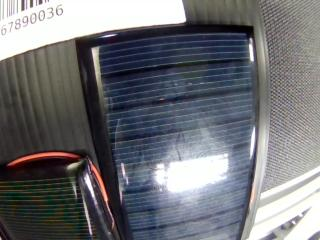solarboard: (77, 25, 258, 240), (0, 158, 117, 240)
